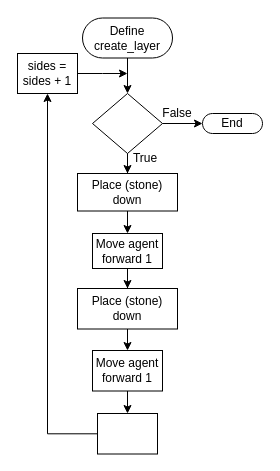
The diagram is 280 pixels wide and 471 high, and some of its shapes have lost their labels. Here are the shapes that lost their labels. From the top down, the centre of each, then its label:
At (x=127, y=123): "sides < 4?".
At (x=127, y=433): "Turn agent right".
